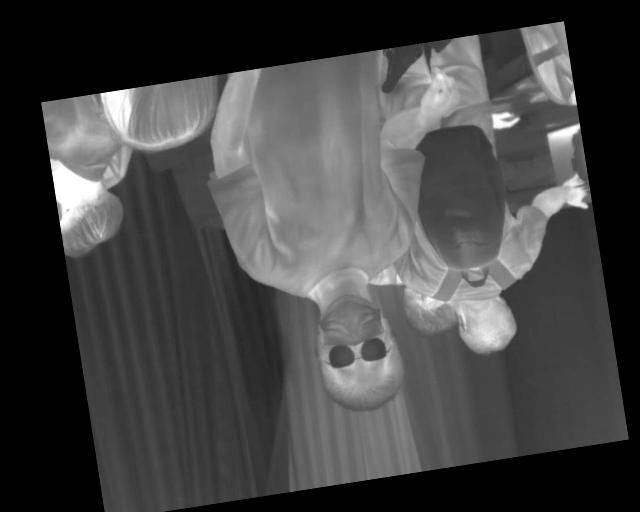face: (309, 286, 410, 417)
